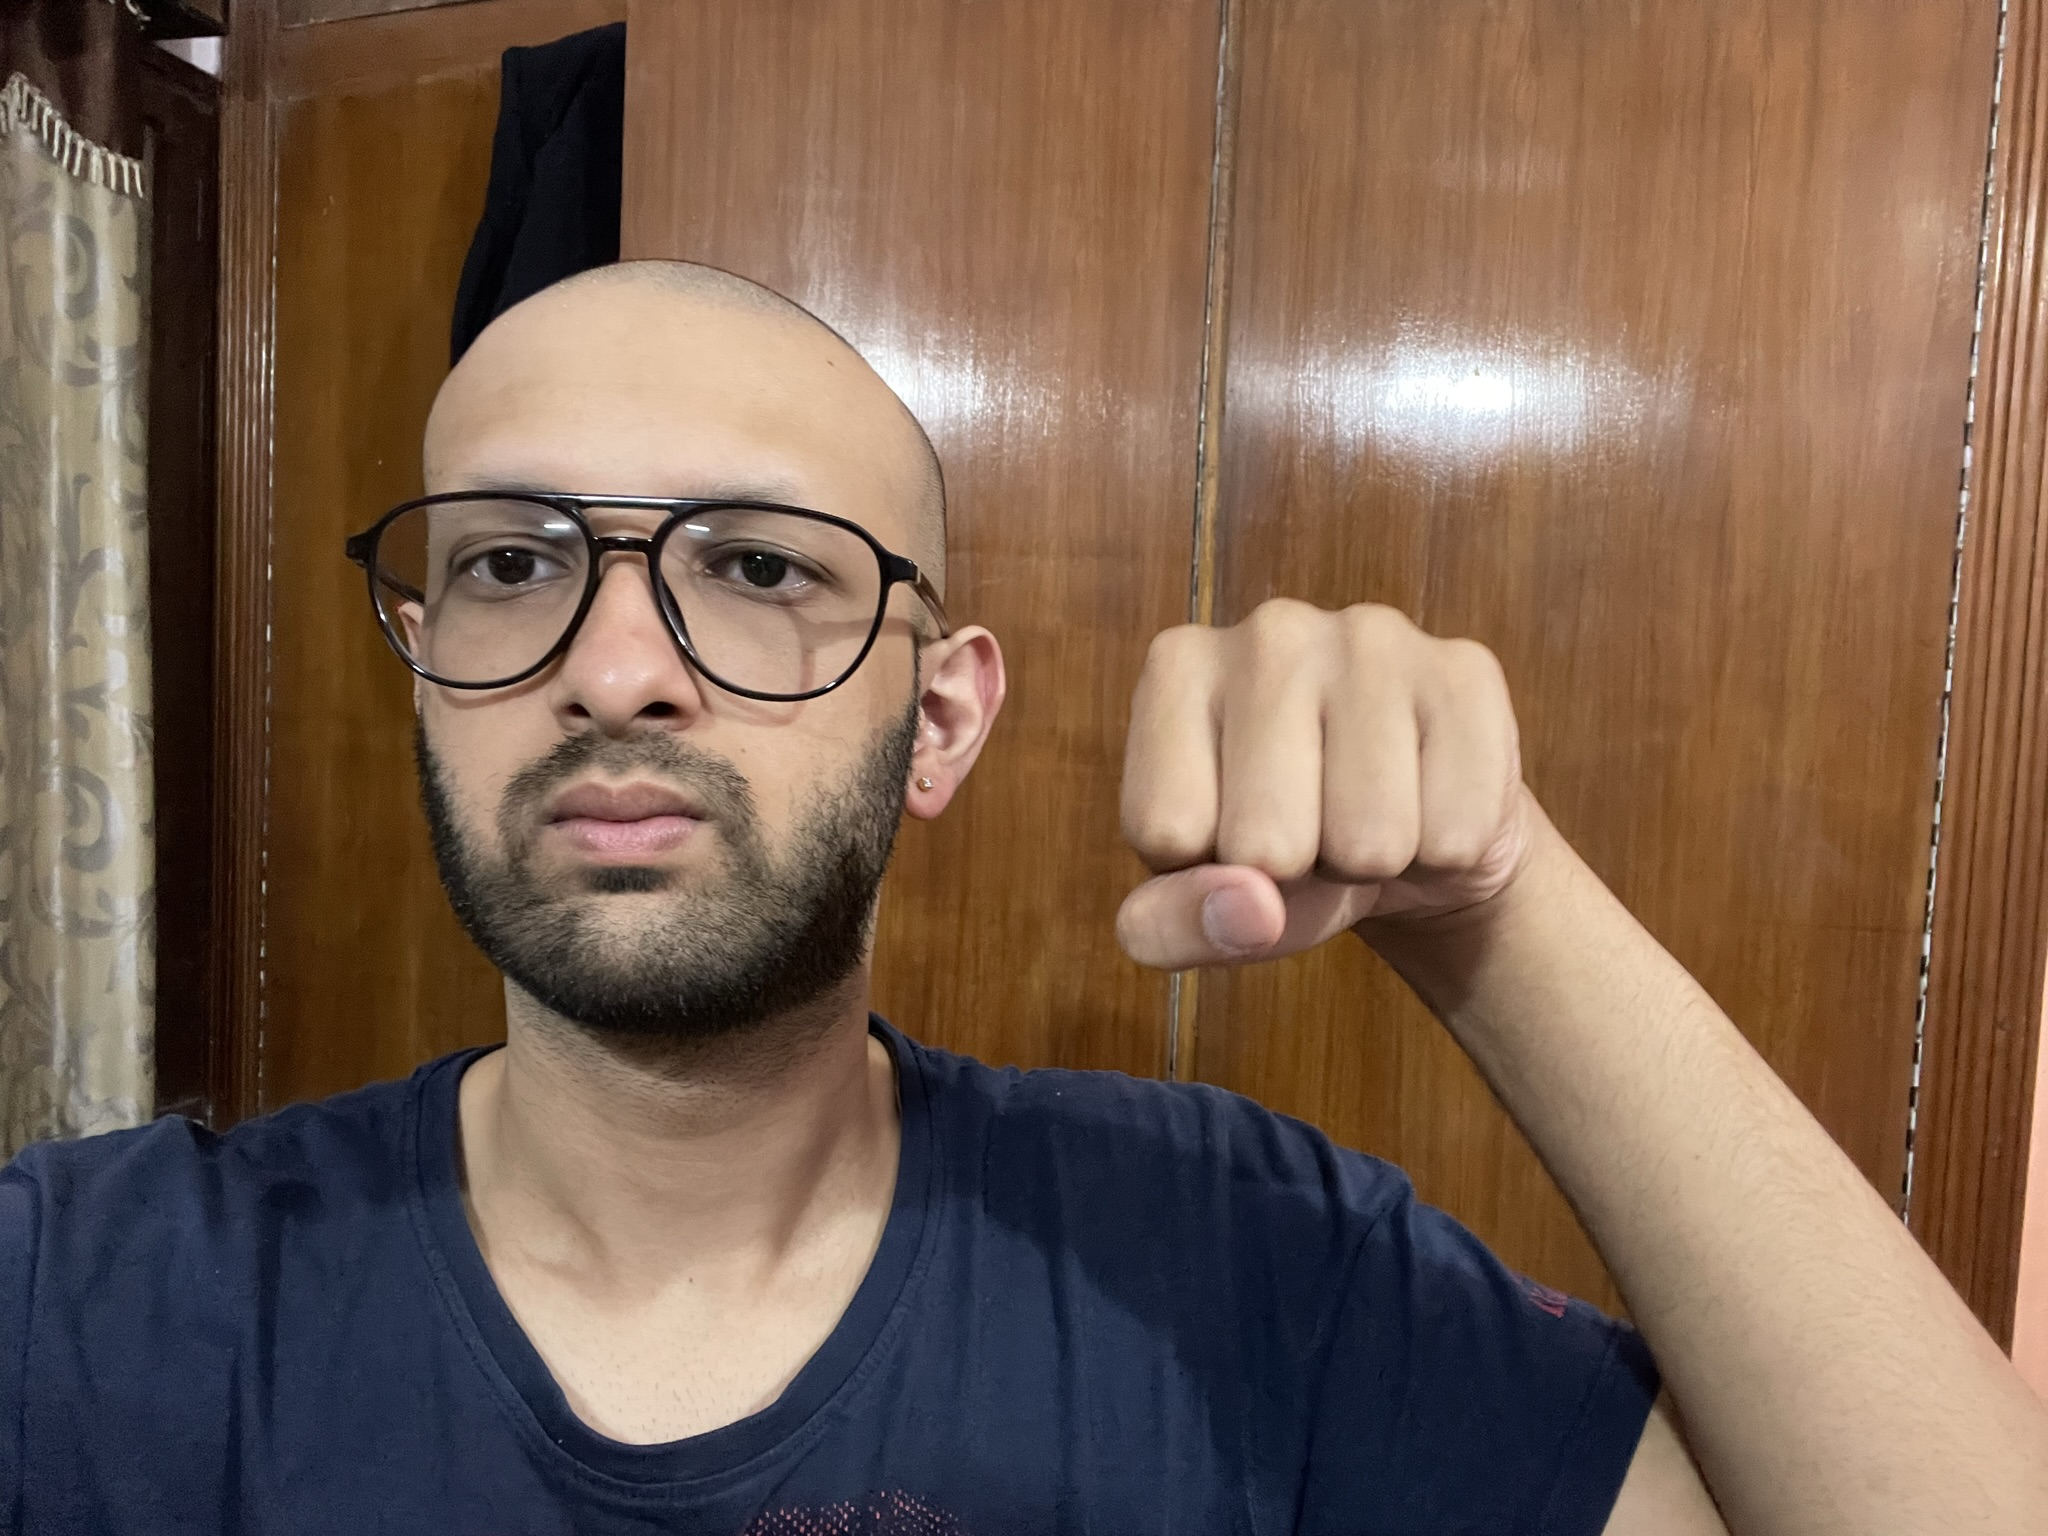Yes: (1100, 587, 1545, 1004)
